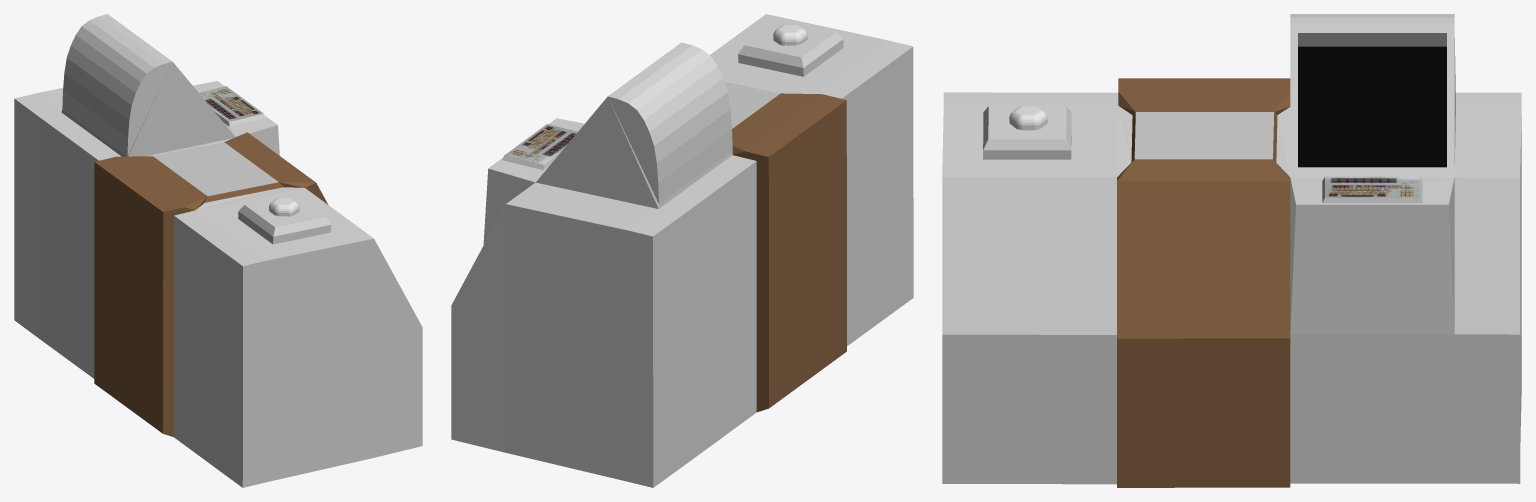
The model's file is terminal2.dae.
3 views of the same model, side by side, from view 1: azimuth 30°, elevation 25°; view 2: azimuth 150°, elevation 25°; view 3: azimuth 270°, elevation 25° (orthographic). The views are drawn at different scales.
Parts seen in each view (by area): view 1: Cube, Cylinder; view 2: Cube, Cylinder; view 3: Cube, Cylinder.
Boxes of the visible parts, bbox=[...] form: Cube: bbox=[14, 14, 422, 487]; Cylinder: bbox=[269, 197, 299, 216]; Cube: bbox=[451, 14, 913, 487]; Cylinder: bbox=[773, 24, 807, 45]; Cube: bbox=[942, 14, 1521, 487]; Cylinder: bbox=[1009, 105, 1047, 130].
Bounding box in the file's own units: 3.57 × 7.06 × 5.27.
